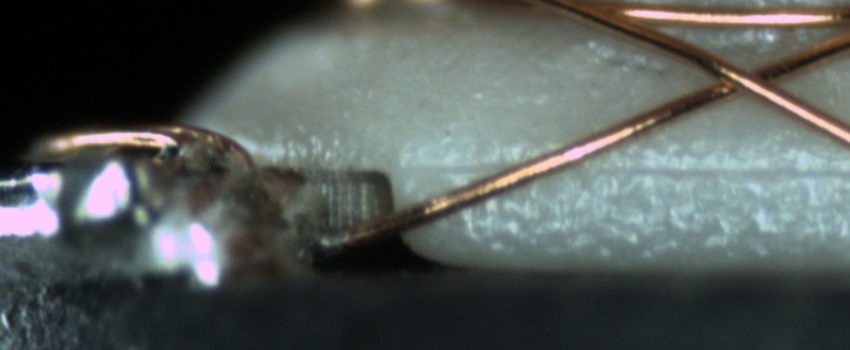CL: (689, 53, 801, 104)
DL: (447, 133, 850, 206)
TE: (38, 114, 269, 172)
